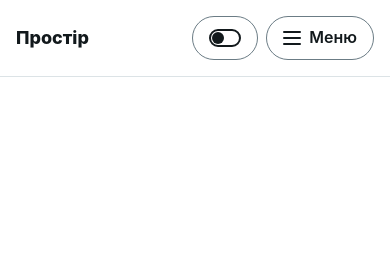
Test: Header › кнопка меню перемикає aria-expanded
Step 1. Click the button "Меню" → (320, 38), box [266, 16, 374, 60]
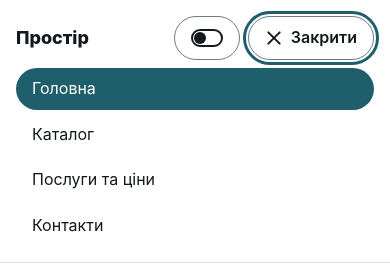
Check: the button named "меню" is expanded, box [248, 16, 374, 60]
